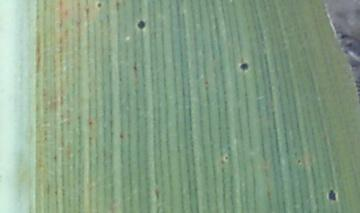tarspot: (236, 61, 250, 73), (327, 188, 337, 203), (136, 19, 147, 30), (152, 187, 160, 201), (131, 59, 138, 72), (117, 132, 125, 140), (96, 1, 102, 9), (223, 154, 229, 161), (87, 120, 93, 127), (296, 158, 302, 165)
